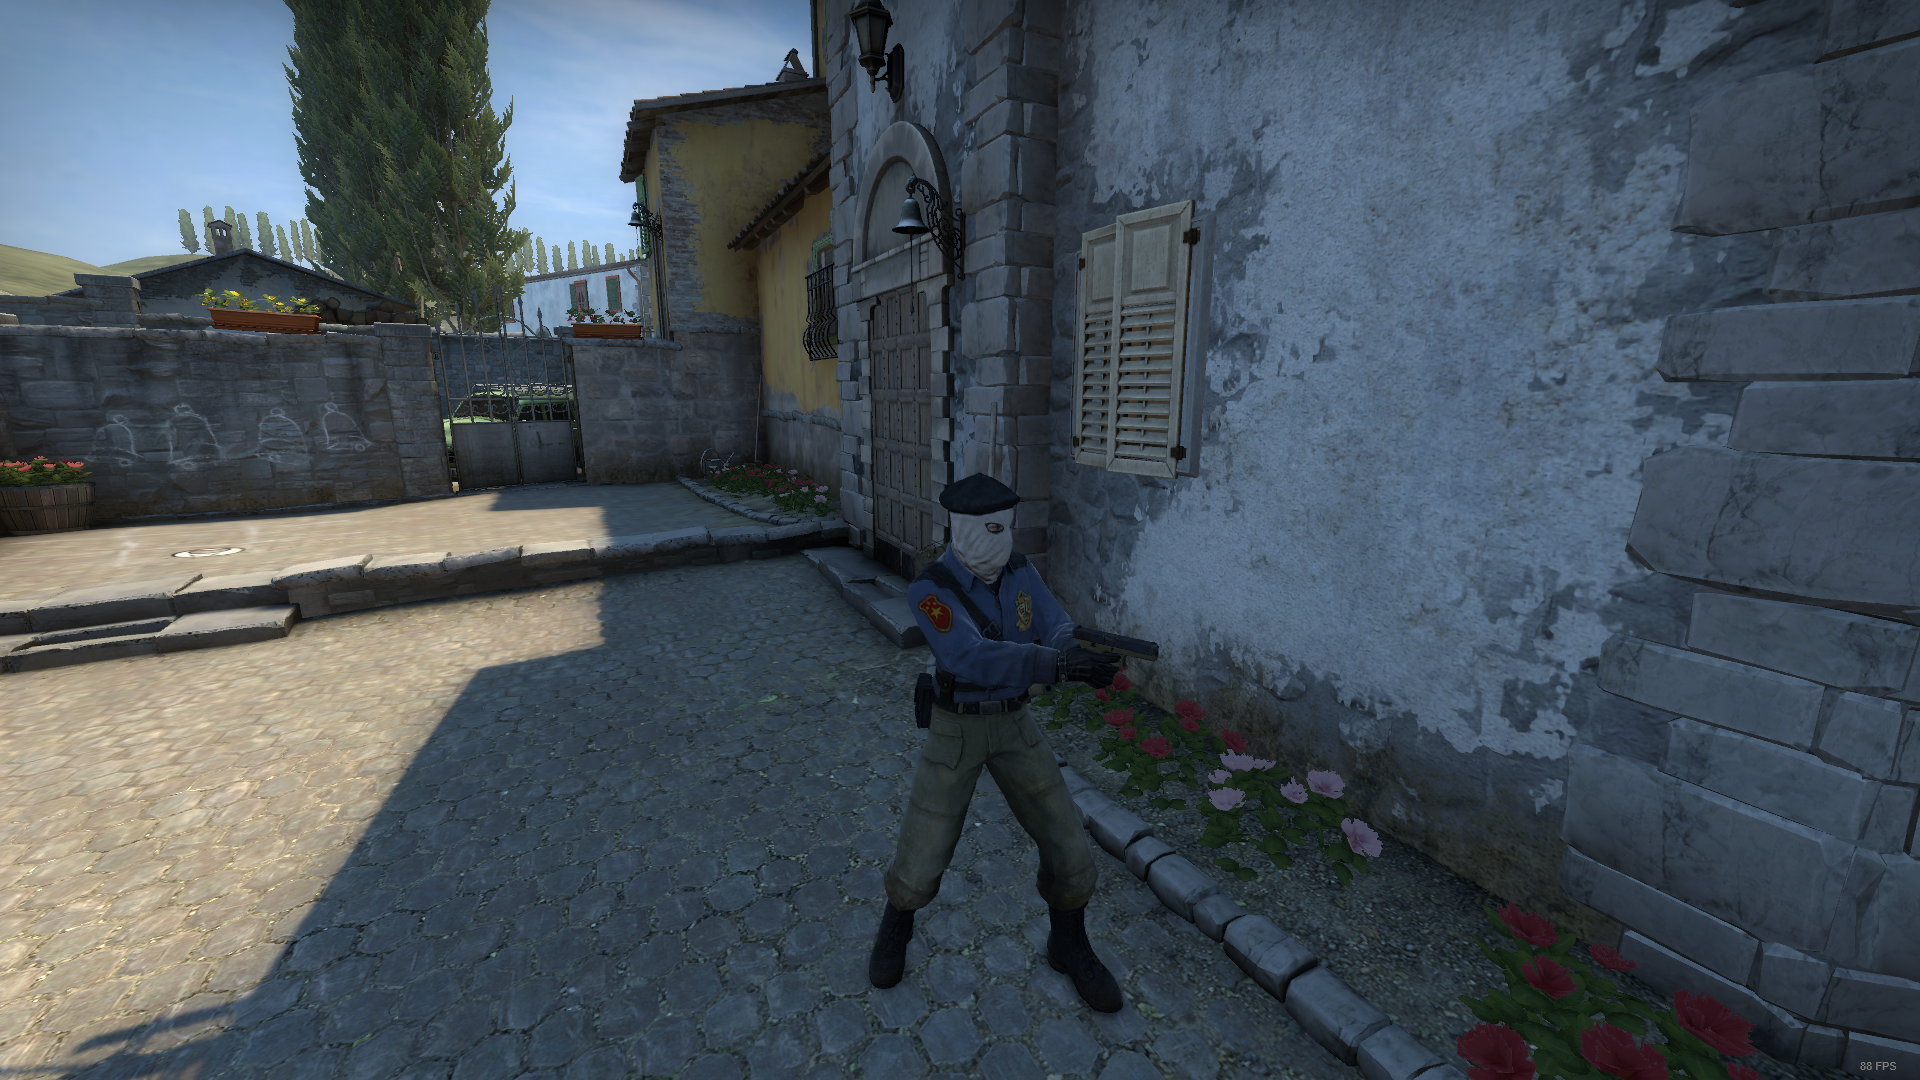t: (843, 462, 1167, 1015)
